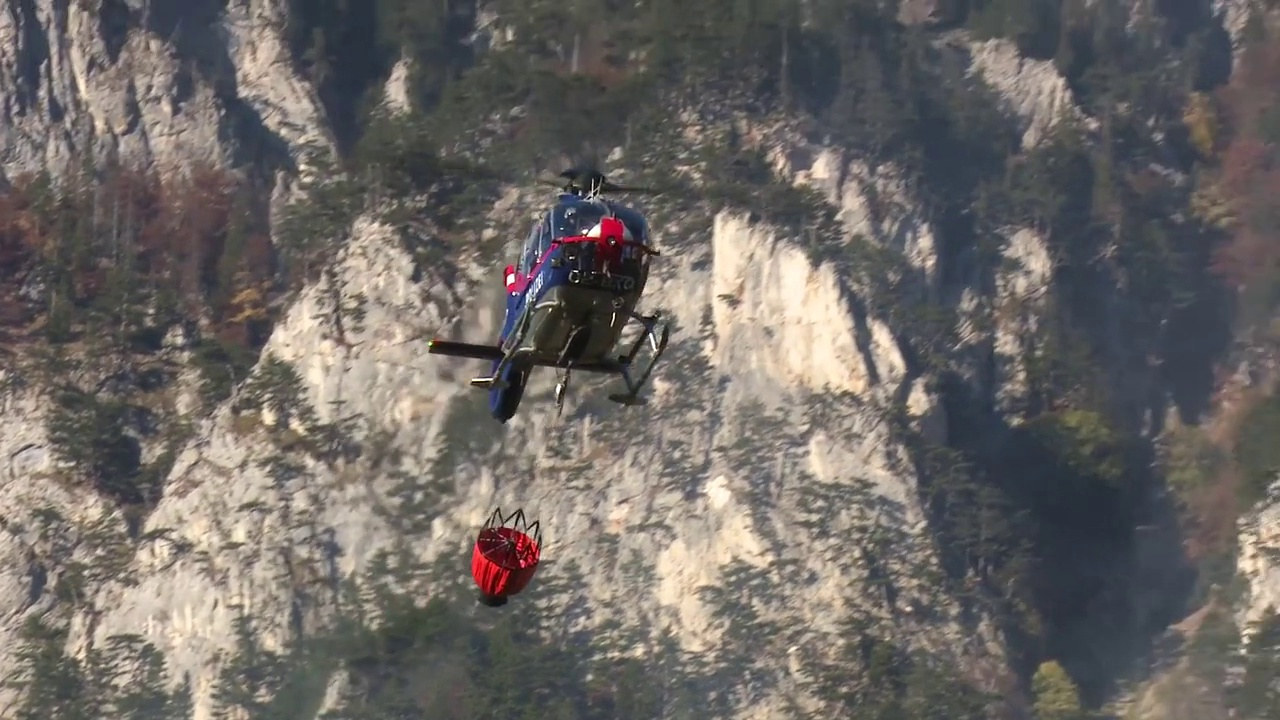heli: (428, 167, 666, 424)
